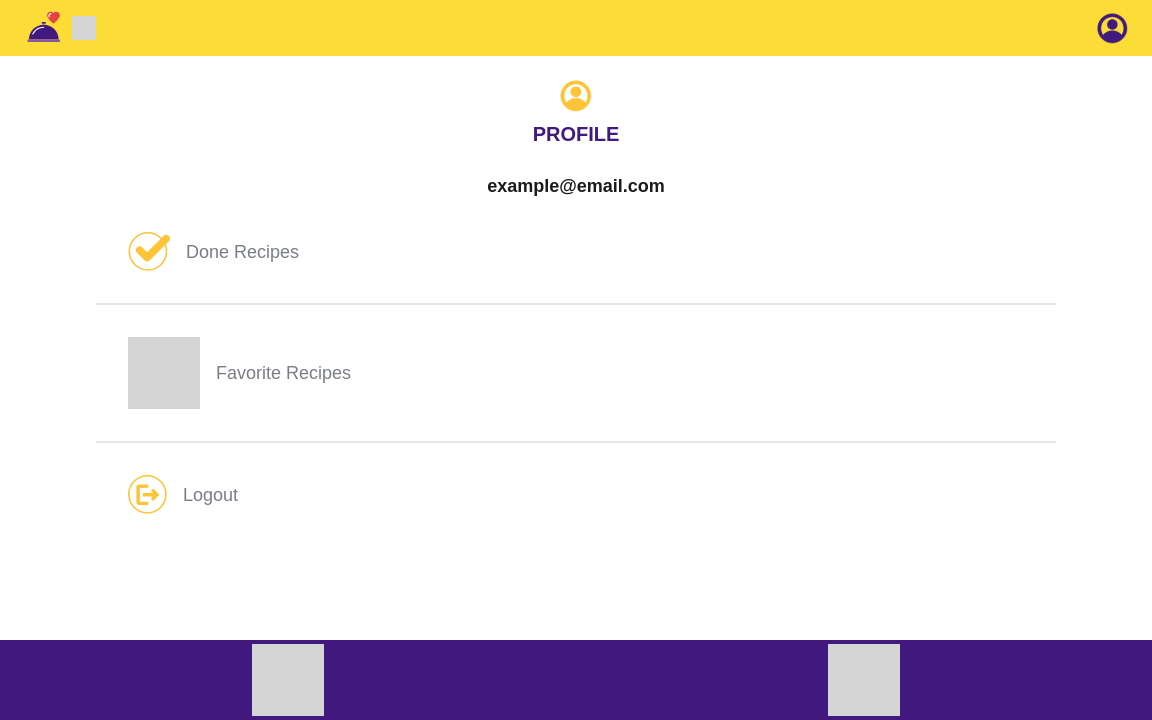
Scenario: Profile › should redirect to the done recipes page
This screenshot has width=1152, height=720.
Step 1. Click the button with test id "profile-done-btn" → (214, 252), box [128, 232, 299, 271]
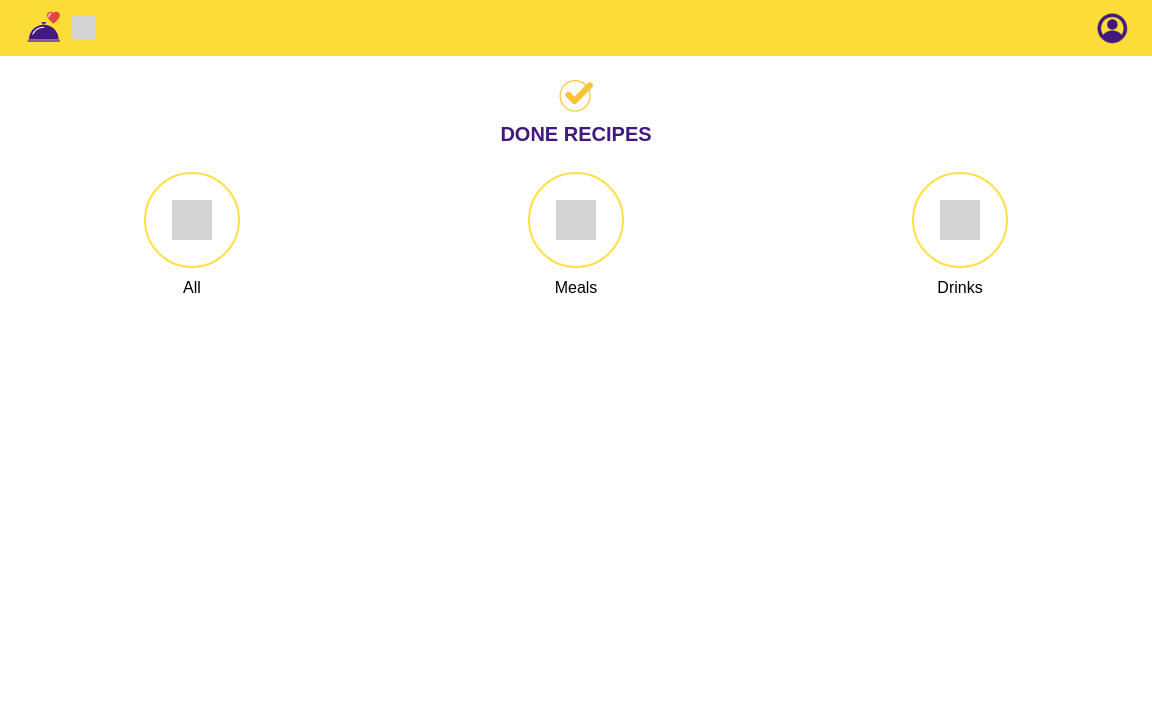
Expected: the heading "Done Recipes" is shown, [500, 120, 652, 148]
